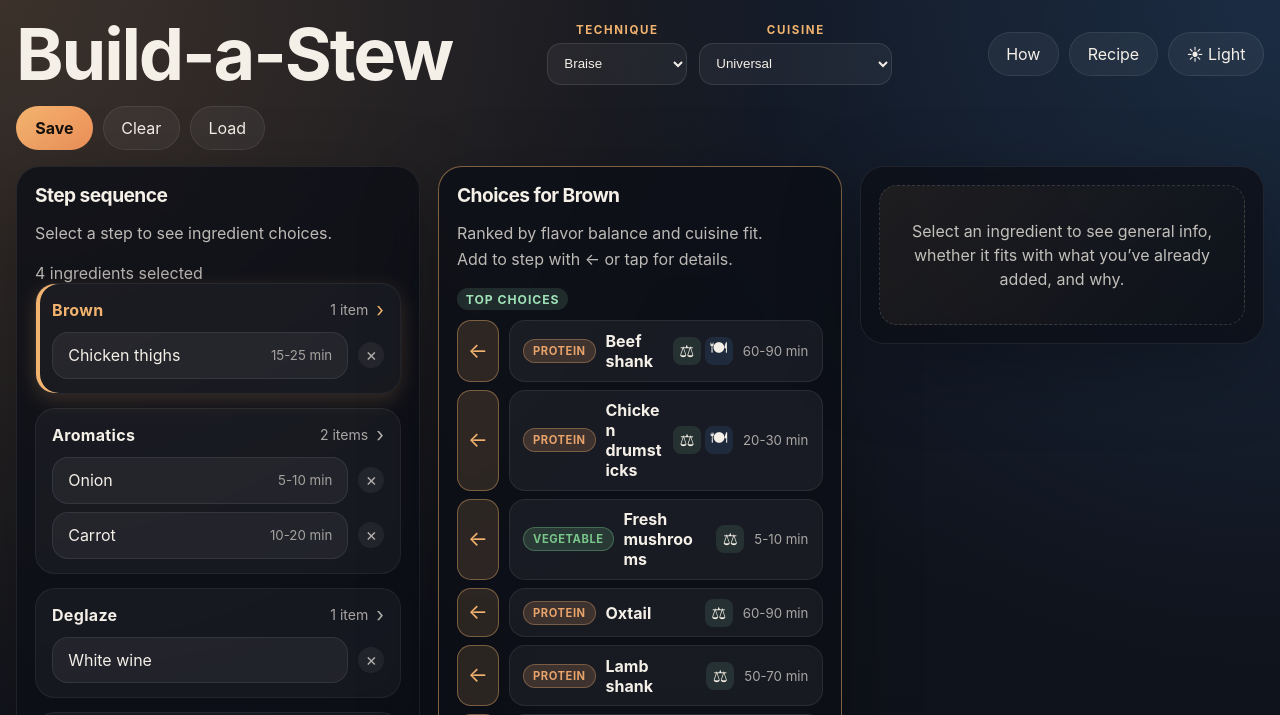
it: App shell — header controls and popups › opens the Recipe and Load popups
Click the button "Recipe" at (1113, 54), box [1069, 32, 1158, 76]
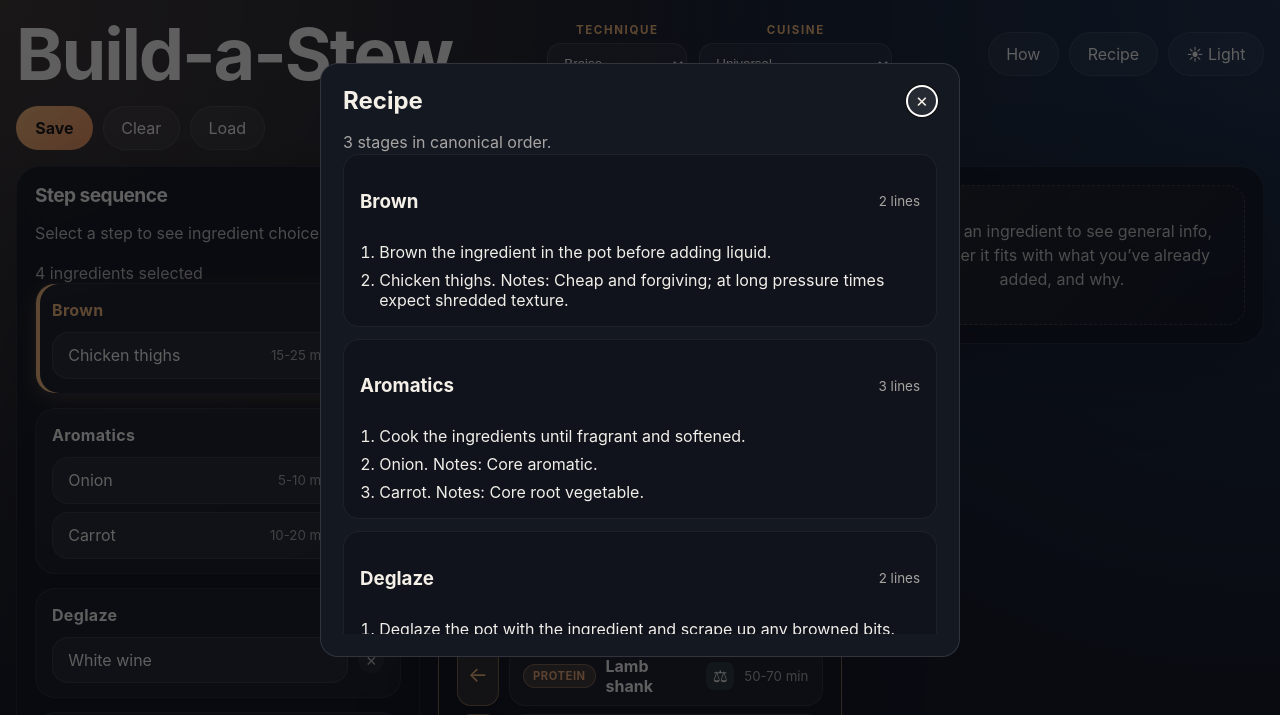
Expected: the heading "Recipe" is shown, [343, 86, 423, 116]
Click the button named "close" at (922, 101), box [907, 86, 937, 116]
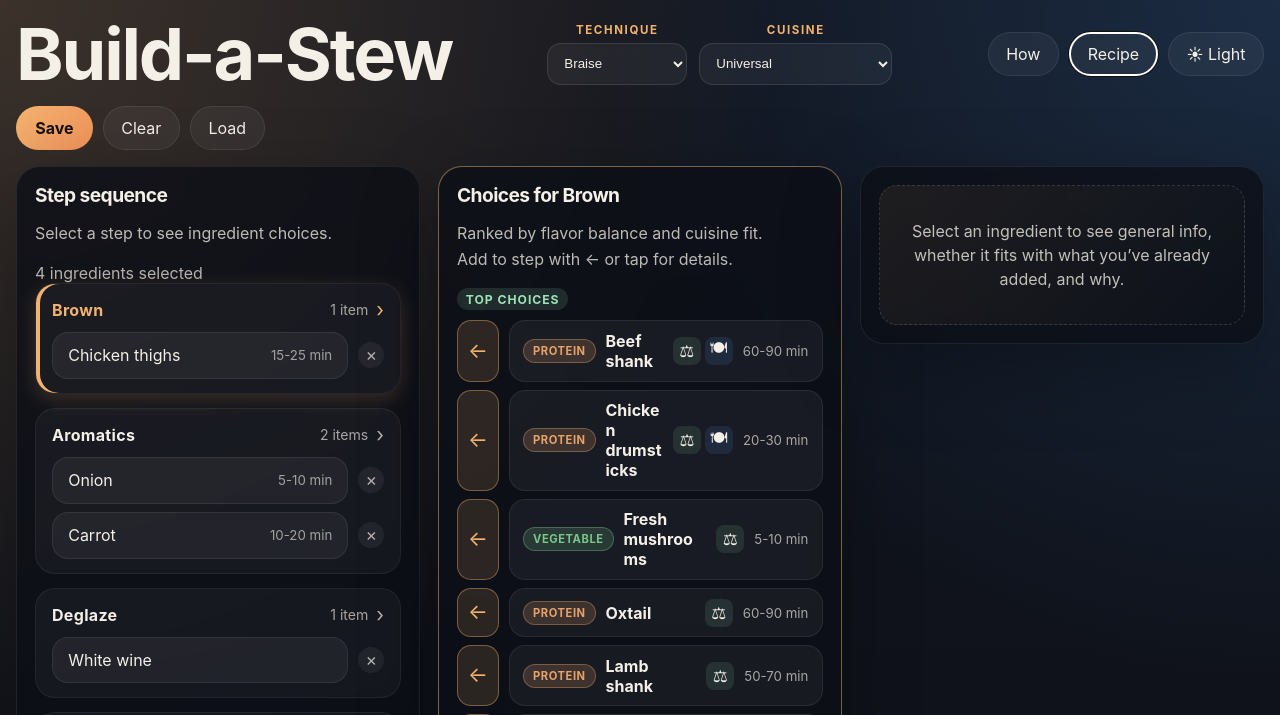
Click the button "Load" at (227, 128), box [190, 106, 265, 150]
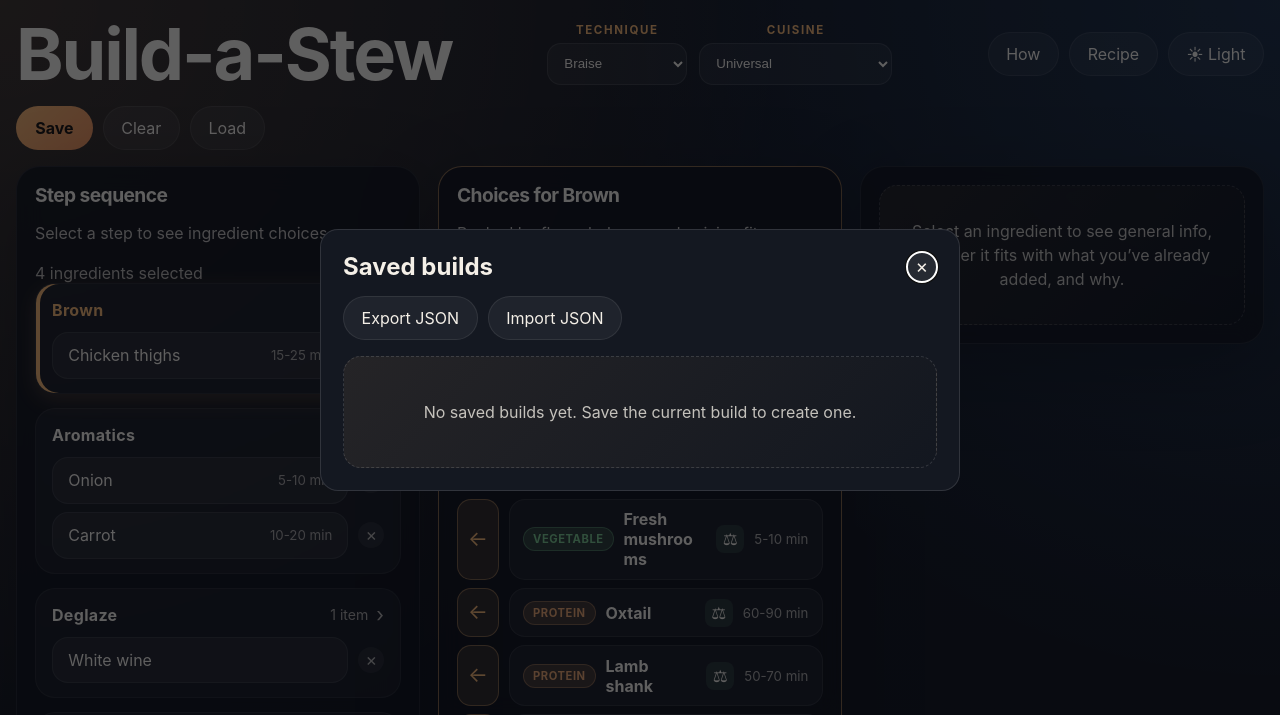
Expected: the heading "Saved builds" is shown, [343, 252, 493, 281]
